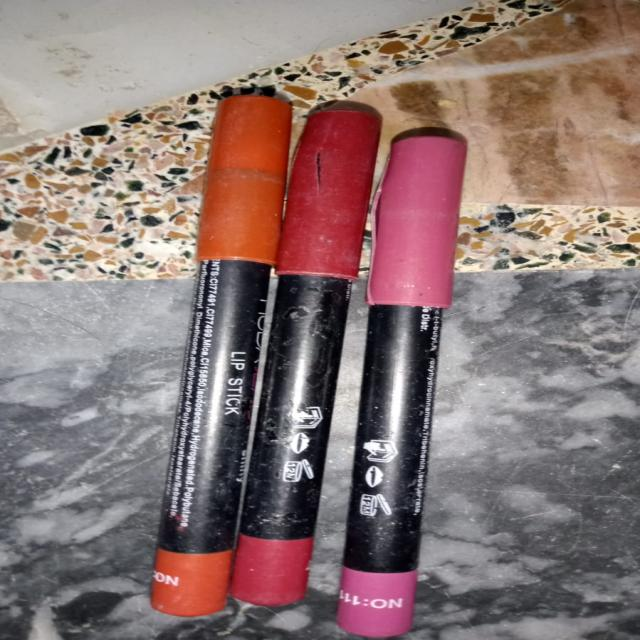lip liner: (122, 86, 307, 620), (222, 95, 396, 617), (340, 120, 468, 640)
